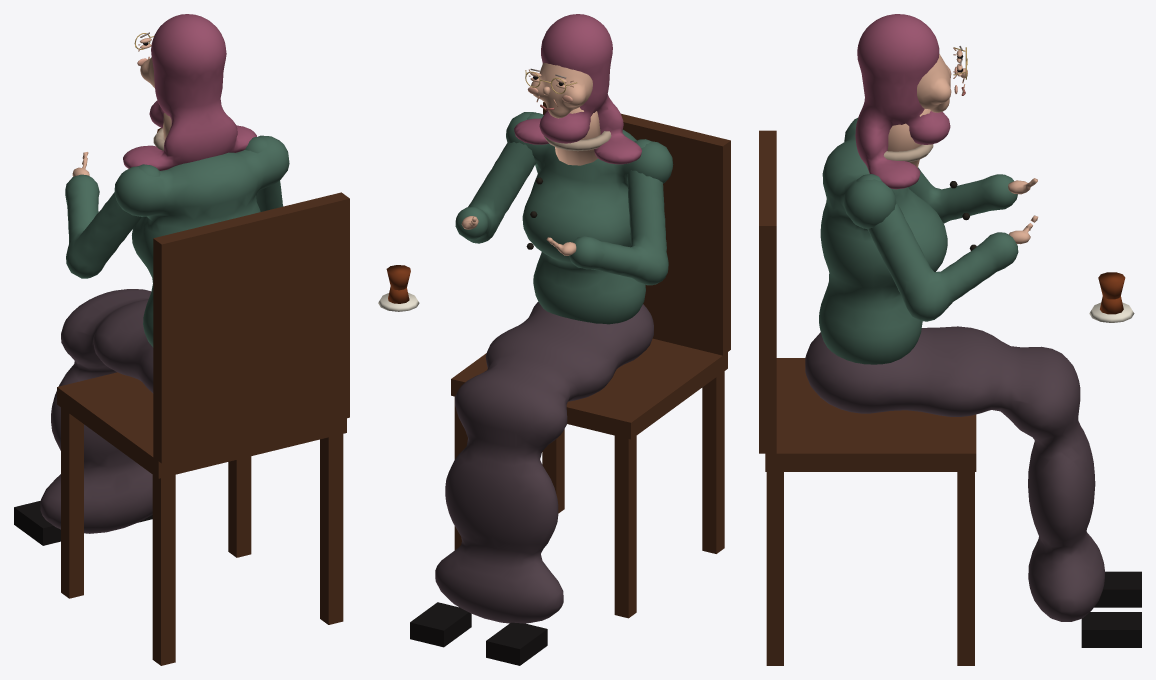
Rendered from teyze.glb.
The picture shows the model from 3 angles, left to right: view 1: azimuth 30°, elevation 25°; view 2: azimuth 150°, elevation 25°; view 3: azimuth 270°, elevation 25°; orthographic projection. The views are drawn at different scales.
Parts seen in each view (by area): view 1: Body, Head, Torso, ArmL, ArmR; view 2: Body, Torso, Head, ArmL, ArmR; view 3: Body, Torso, Head, ArmR, ArmL.
Part boxes in pixels (<box>): Body: <box>14,128,349,665</box>; Head: <box>123,14,256,170</box>; Torso: <box>114,113,289,347</box>; ArmL: <box>65,152,160,278</box>; ArmR: <box>245,136,283,211</box>; Body: <box>378,102,730,665</box>; Torso: <box>506,107,673,324</box>; Head: <box>514,14,641,164</box>; ArmL: <box>546,139,668,285</box>; ArmR: <box>455,112,543,243</box>; Body: <box>759,130,1141,665</box>; Torso: <box>819,109,976,364</box>; Head: <box>855,14,967,189</box>; ArmR: <box>856,174,1038,321</box>; ArmL: <box>908,167,1037,223</box>.
Bounding box in the file's own units: 0.5104 × 1.32 × 0.7625.
